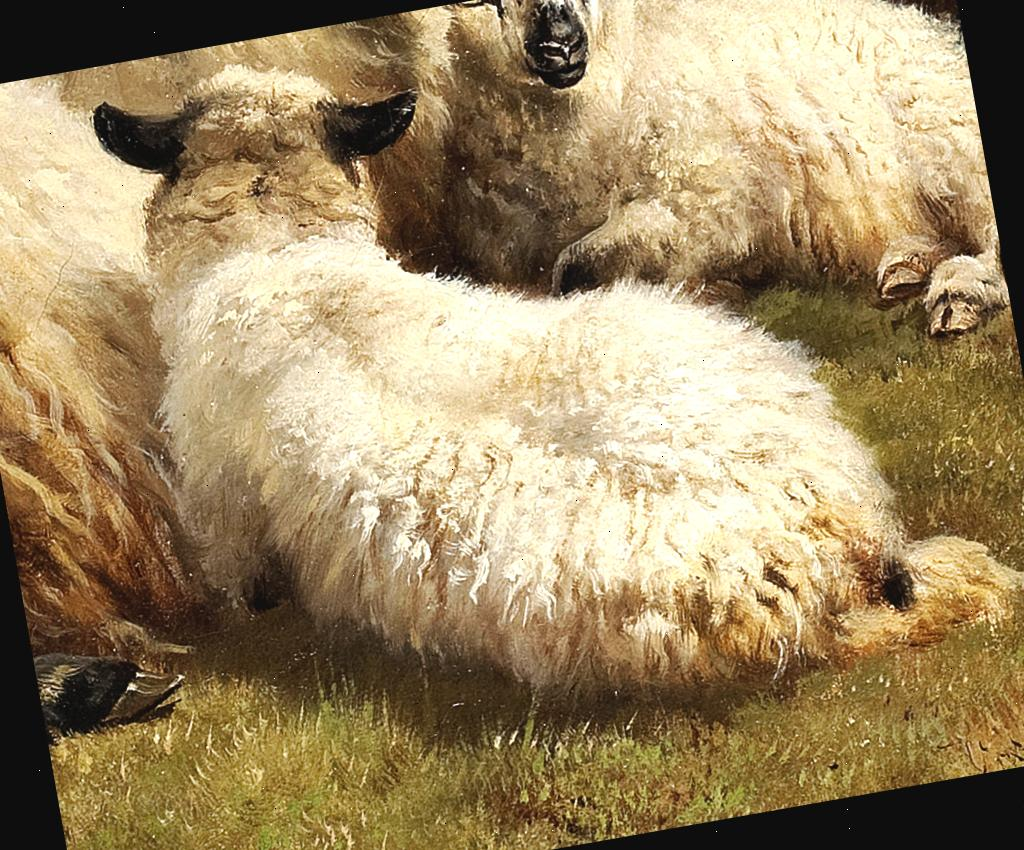Sheep: (83, 0, 1024, 791), (0, 9, 532, 734), (401, 0, 1014, 424)
